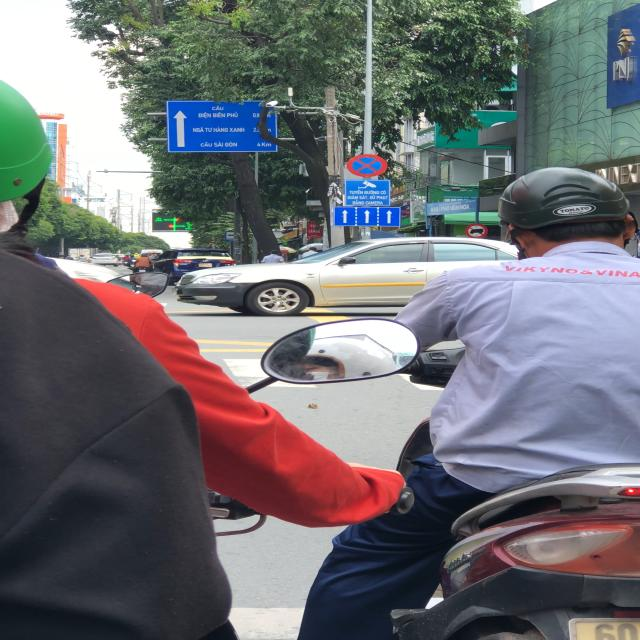Bien bao cam dung xe va do xe: (345, 151, 396, 180)
